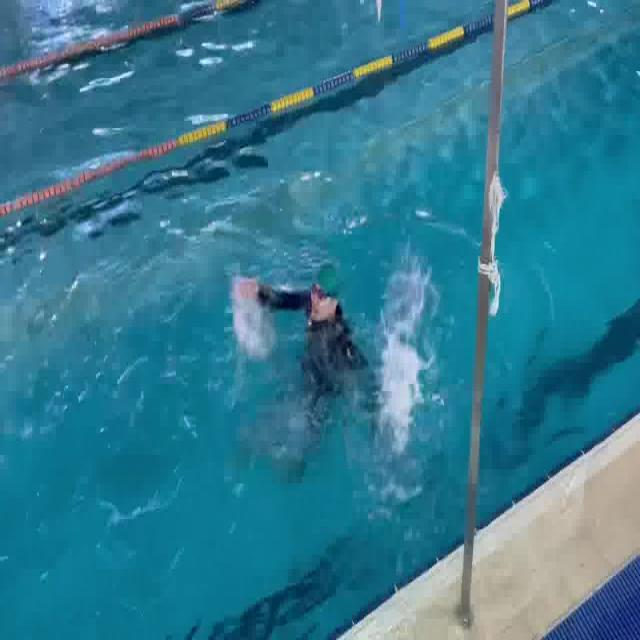Swimming: (216, 234, 419, 471)
